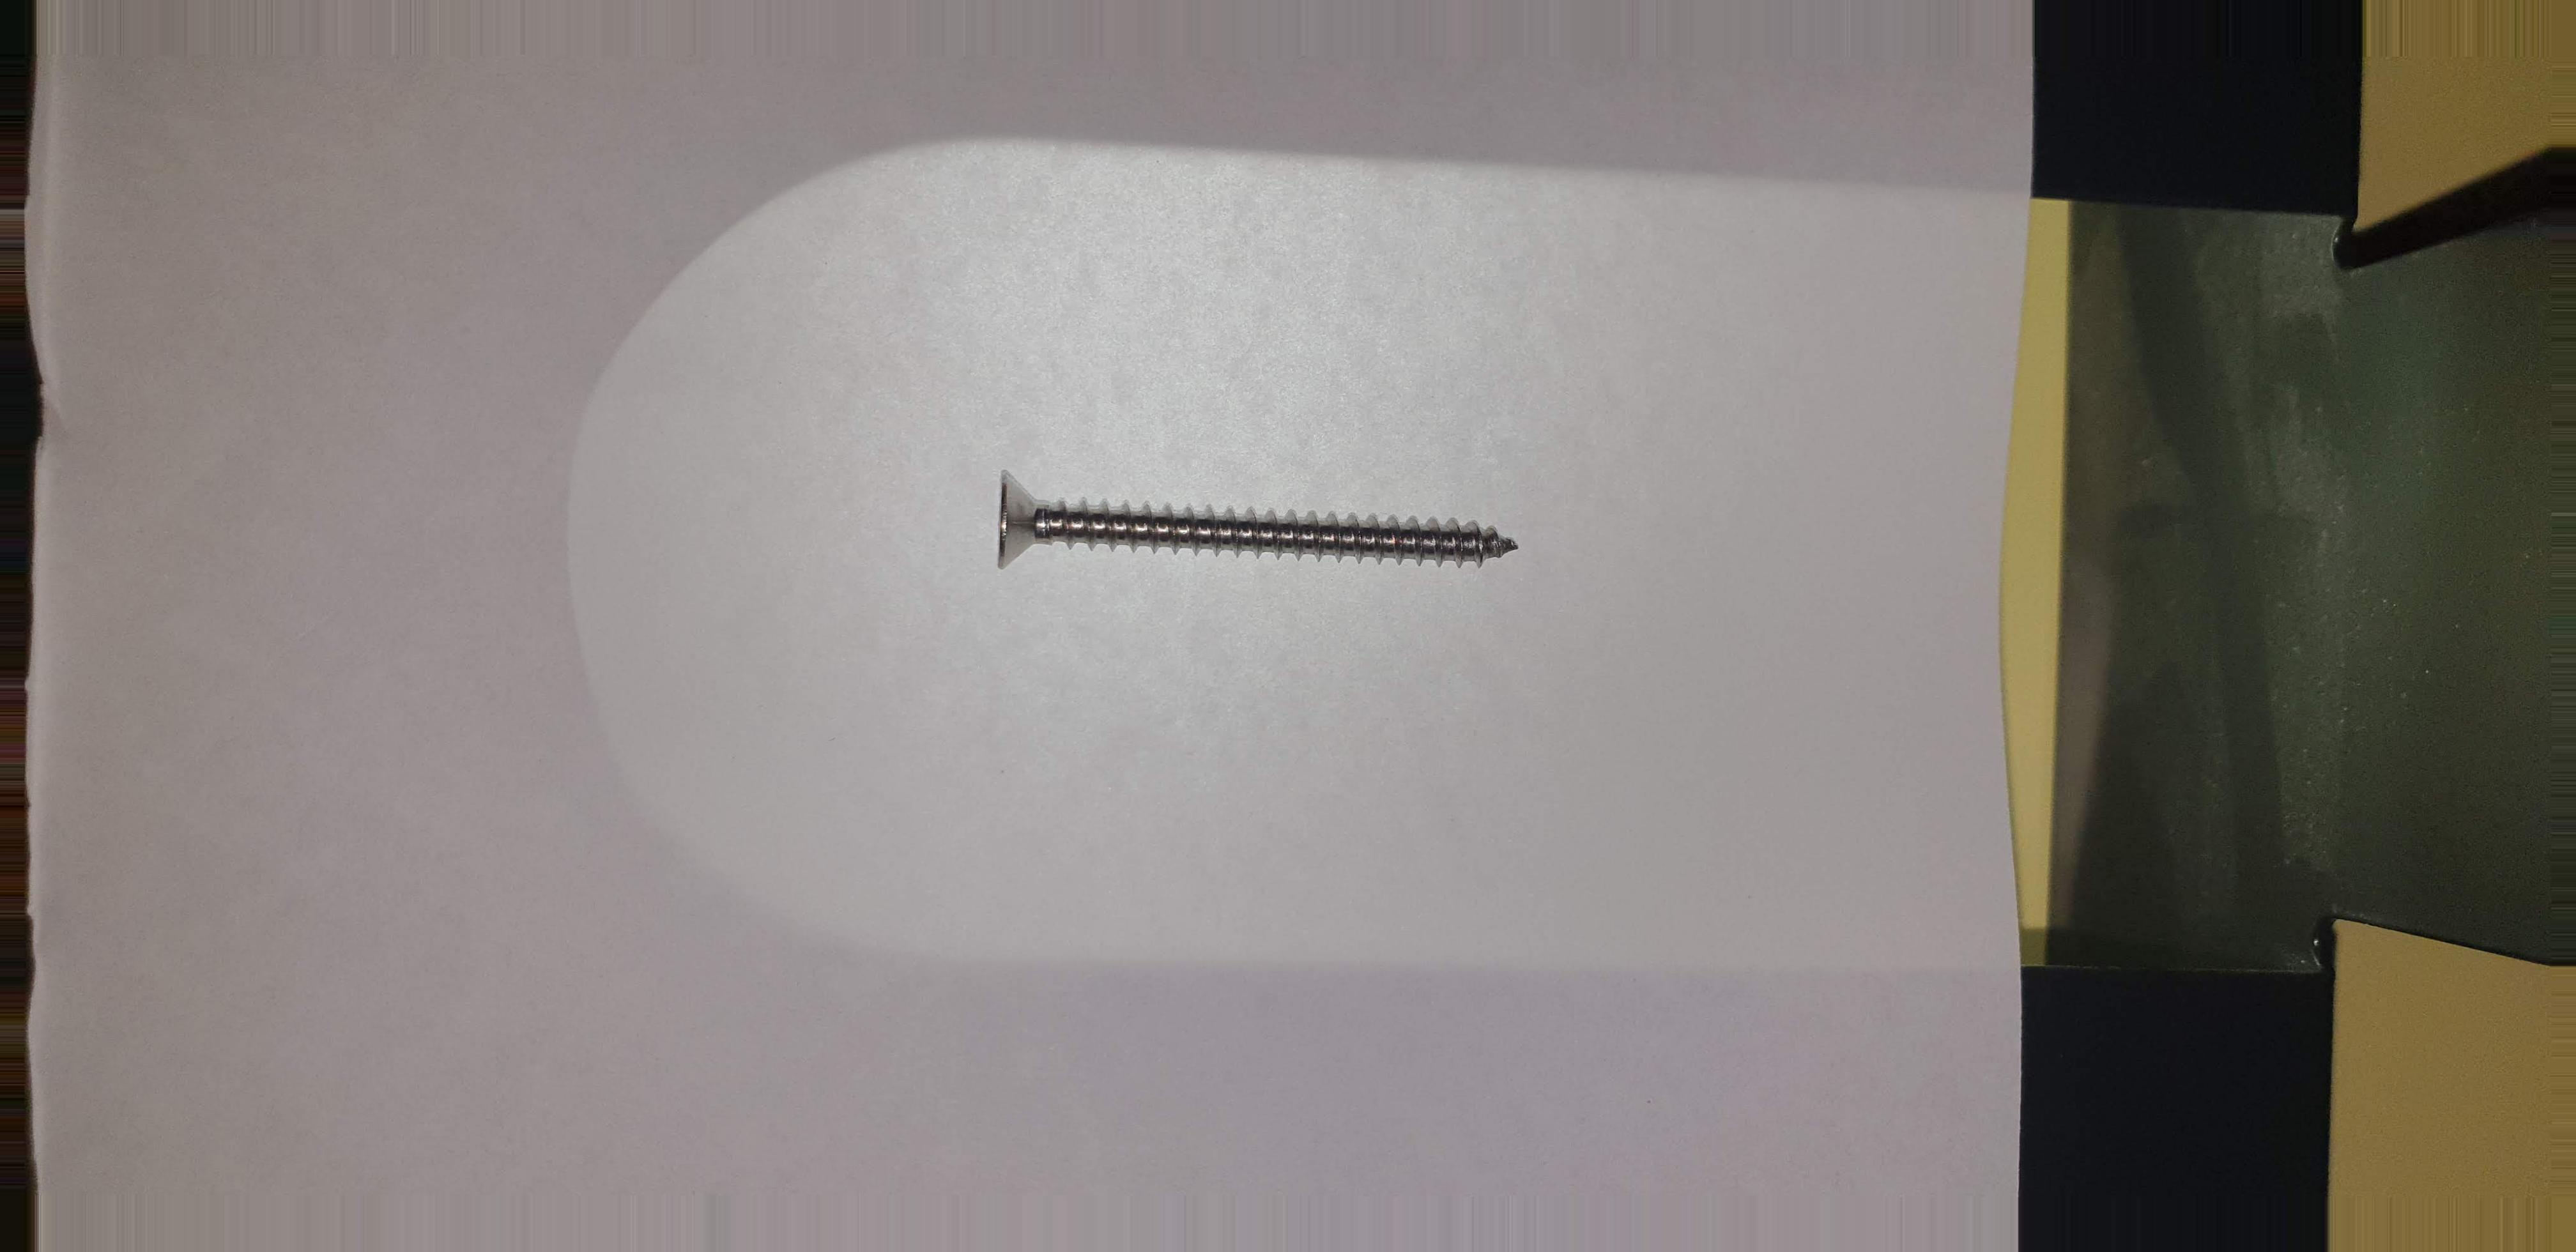fastener: (912, 398, 1623, 647)
